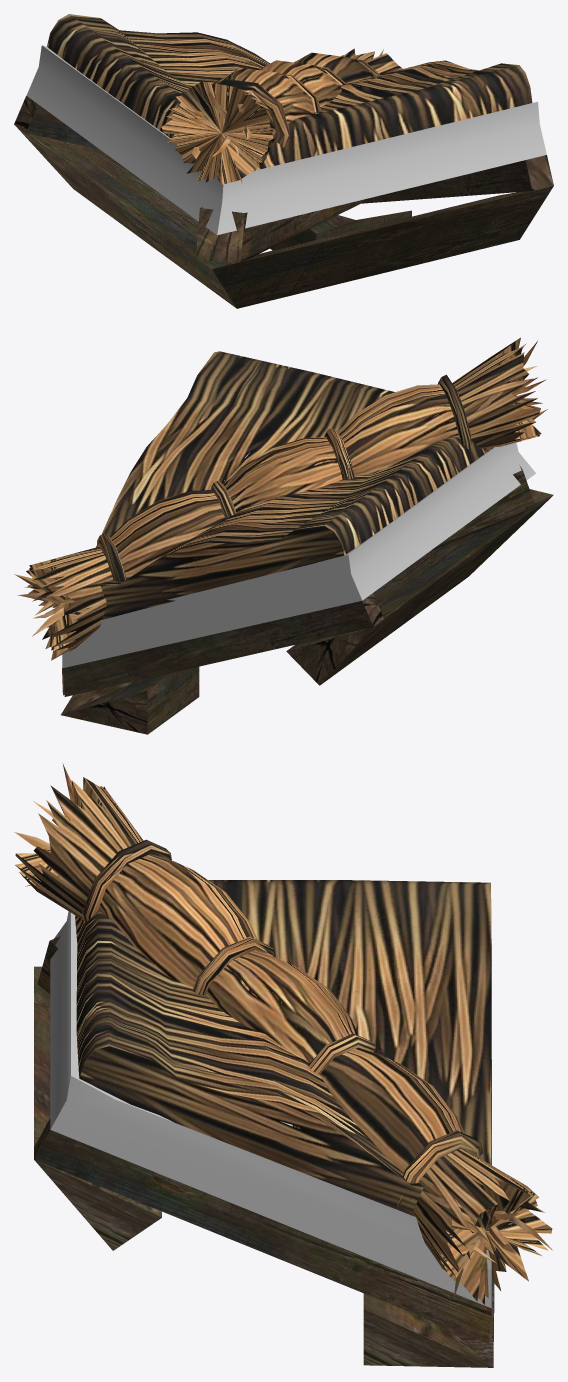
The picture shows the model from 3 angles, top to bottom: view 1: azimuth 30°, elevation 25°; view 2: azimuth 150°, elevation 25°; view 3: azimuth 270°, elevation 25°; orthographic projection. The views are drawn at different scales.
Parts seen in each view (by area): view 1: SM_BB_T1_Extended_Roof_Med_Valley_Shallow_LOD0; view 2: SM_BB_T1_Extended_Roof_Med_Valley_Shallow_LOD0; view 3: SM_BB_T1_Extended_Roof_Med_Valley_Shallow_LOD0.
Boxes of the visible parts, x1,y1,x2,y2 form: SM_BB_T1_Extended_Roof_Med_Valley_Shallow_LOD0: (14, 14, 553, 308); SM_BB_T1_Extended_Roof_Med_Valley_Shallow_LOD0: (14, 337, 553, 734); SM_BB_T1_Extended_Roof_Med_Valley_Shallow_LOD0: (14, 763, 552, 1367).
Bounding box in the file's own units: 1.98 × 1.65 × 1.95.
